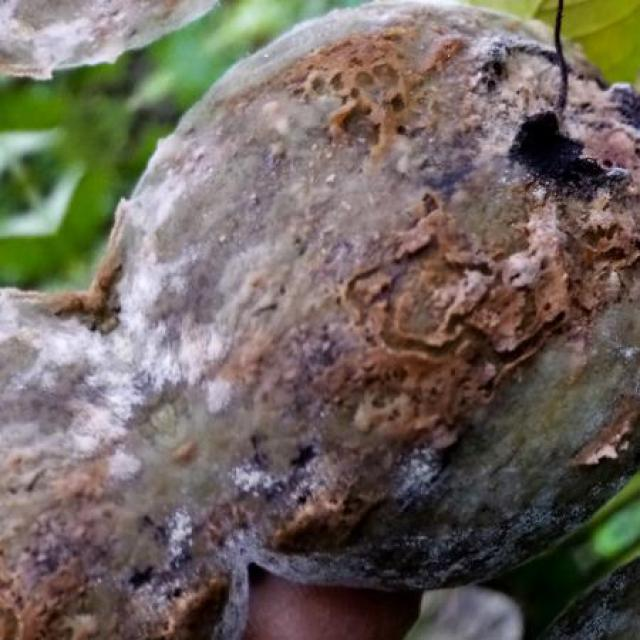Phytopthora: (116, 2, 640, 640), (0, 290, 246, 639)
